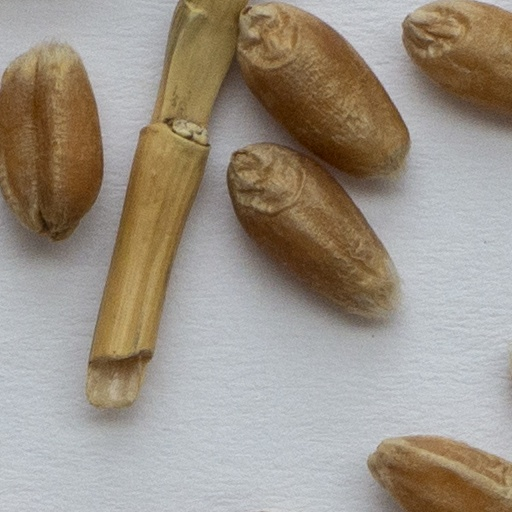Peel-poly: (86, 0, 247, 411)
